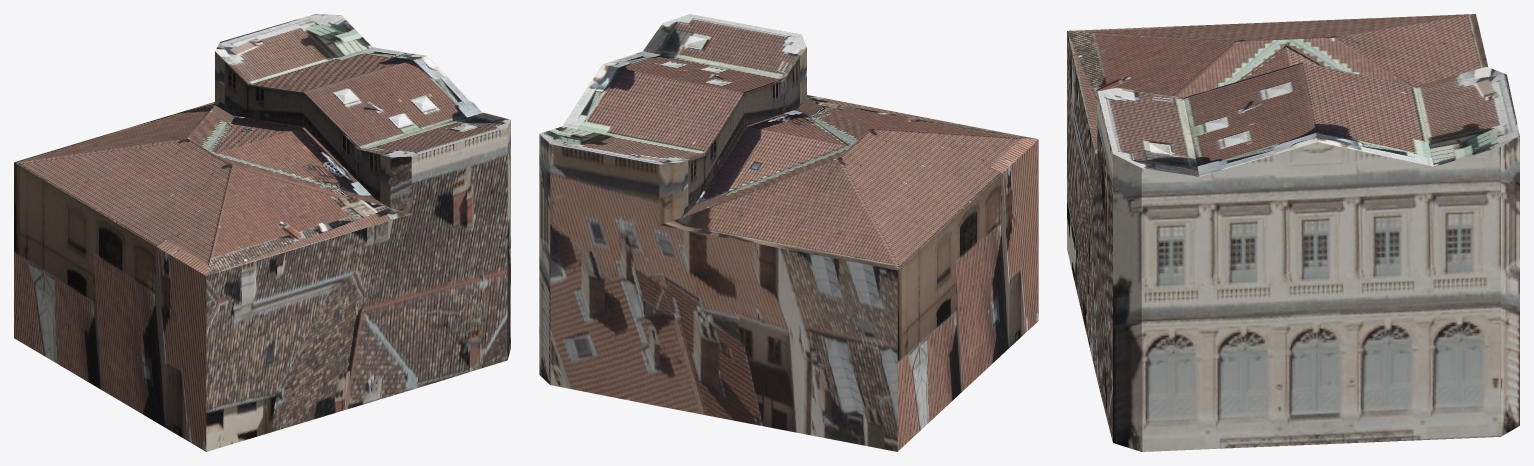
3 renders of one model, left to right at view 1: azimuth 30°, elevation 25°; view 2: azimuth 150°, elevation 25°; view 3: azimuth 270°, elevation 25°, orthographic. The views are drawn at different scales.
Visible parts, largest first — view 1: Z_UP; view 2: Z_UP; view 3: Z_UP.
Boxes of the visible parts, <box> form: Z_UP: <box>14,14,510,451</box>; Z_UP: <box>539,14,1038,451</box>; Z_UP: <box>1067,14,1519,451</box>.
Size of the model in its own units: 27.8 by 17.86 by 24.23.
Materials: 2 (1 with a texture image).
